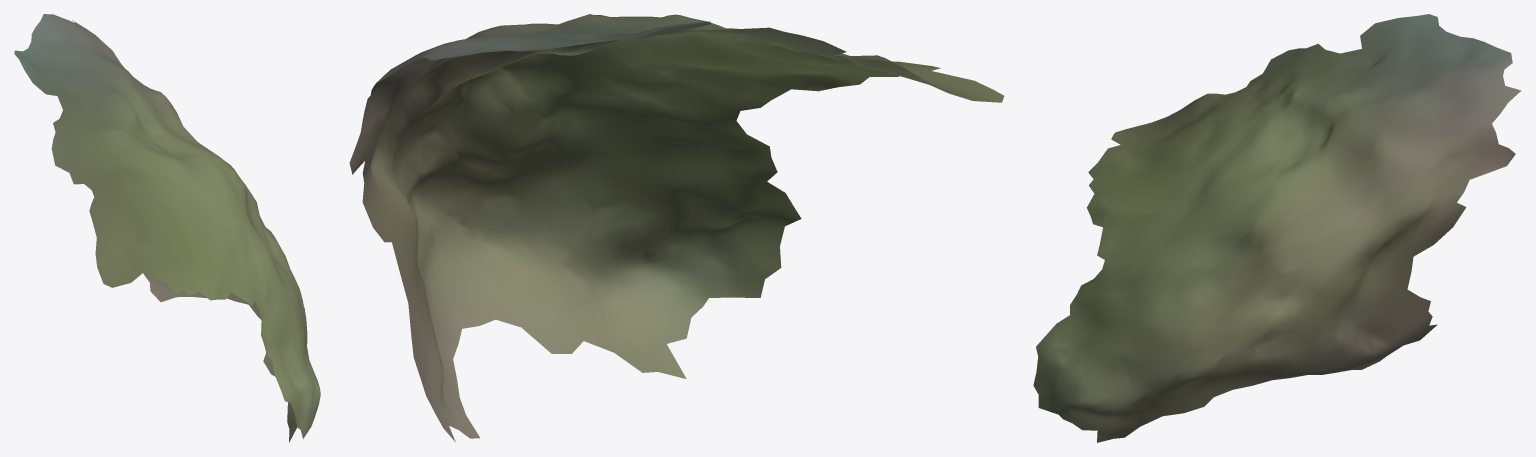
The model's file is LODS_Cloud_global_19.glb.
3 views of the same model, side by side, from view 1: azimuth 30°, elevation 25°; view 2: azimuth 150°, elevation 25°; view 3: azimuth 270°, elevation 25° (orthographic). The views are drawn at different scales.
Visible parts, largest first — view 1: LOD0; view 2: LOD0; view 3: LOD0.
Part boxes in pixels (x1,y1,x2,y2): LOD0: [14, 14, 320, 442]; LOD0: [349, 14, 1004, 442]; LOD0: [1033, 14, 1521, 442].
Size of what is drawn, in the model's own units: 0.1396 by 0.1794 by 0.2221.
